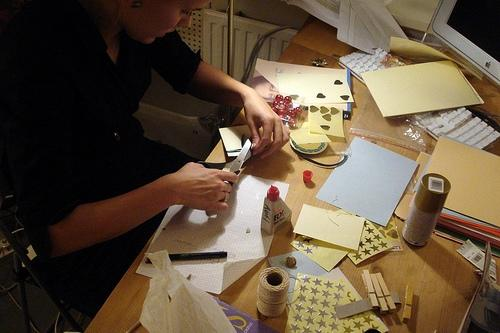apple: (486, 62, 490, 68)
